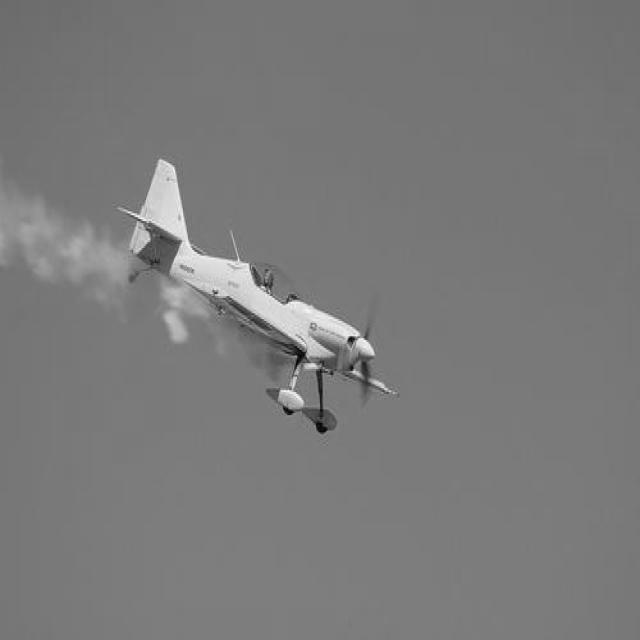aeroplane: (117, 156, 400, 437)
